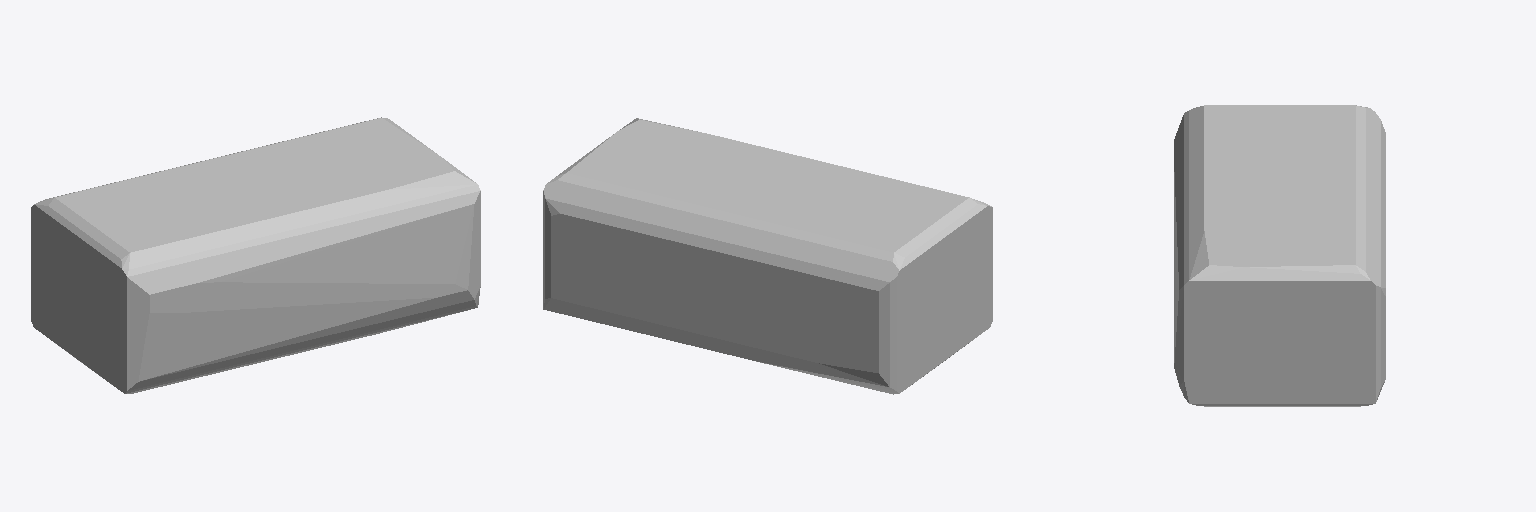
File: block_decimated.obj
3 views of the same model, side by side, from view 1: azimuth 30°, elevation 25°; view 2: azimuth 150°, elevation 25°; view 3: azimuth 270°, elevation 25° (orthographic).
Parts seen in each view (by area): view 1: convex_0; view 2: convex_0; view 3: convex_0.
Boxes of the visible parts, <box> form: convex_0: <box>31,117,480,393</box>; convex_0: <box>543,118,992,394</box>; convex_0: <box>1174,105,1385,406</box>.
Size of the model in its own units: 50.79 by 19.44 by 26.34.